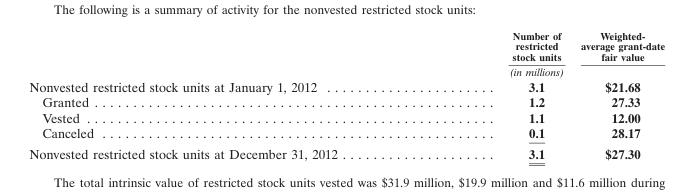table: (28, 29, 664, 161)
table column: (28, 29, 423, 161), (423, 29, 571, 161), (571, 29, 664, 161)
table column header: (28, 29, 664, 77)
table row: (28, 29, 664, 77), (28, 142, 664, 161), (28, 124, 664, 142), (28, 77, 664, 93), (28, 93, 664, 109), (28, 109, 664, 124)
